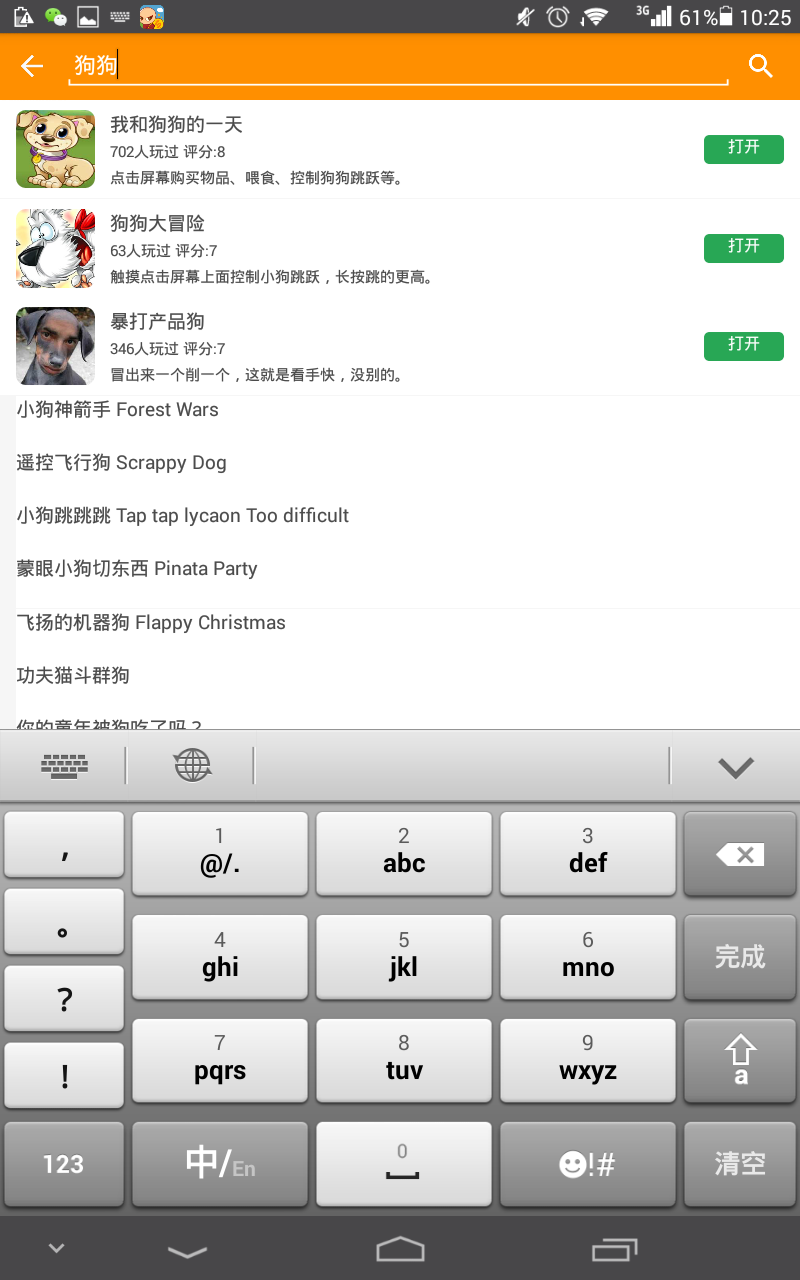imgbutton: (738, 49, 783, 87)
textview: (10, 392, 800, 707), (56, 48, 737, 94)
